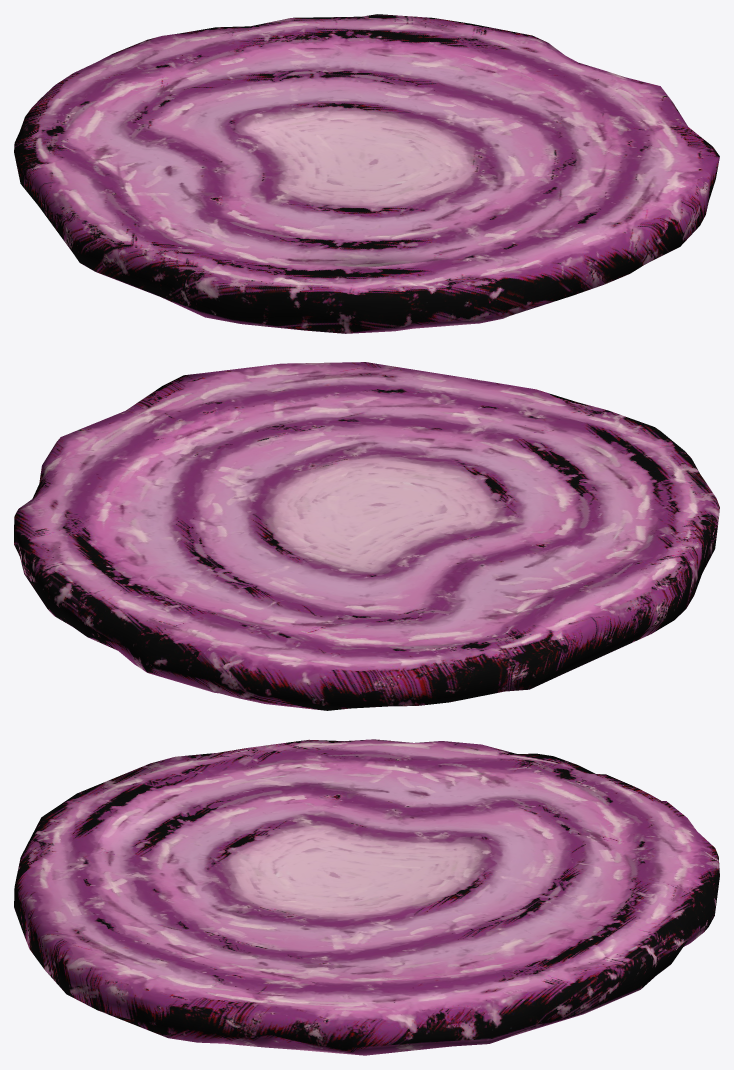
The model's file is Cebolla.fbx.
3 renders of one model, top to bottom at view 1: azimuth 30°, elevation 25°; view 2: azimuth 150°, elevation 25°; view 3: azimuth 270°, elevation 25°, orthographic. The views are drawn at different scales.
Visible parts, largest first — view 1: Cebolla_Low; view 2: Cebolla_Low; view 3: Cebolla_Low.
Boxes of the visible parts, x1,y1,x2,y2 form: Cebolla_Low: (14,14,719,333); Cebolla_Low: (14,362,719,710); Cebolla_Low: (14,739,719,1055).
Bounding box in the file's own units: 0.0318 × 0.00248 × 0.0323.
1 material, 1 textured.
